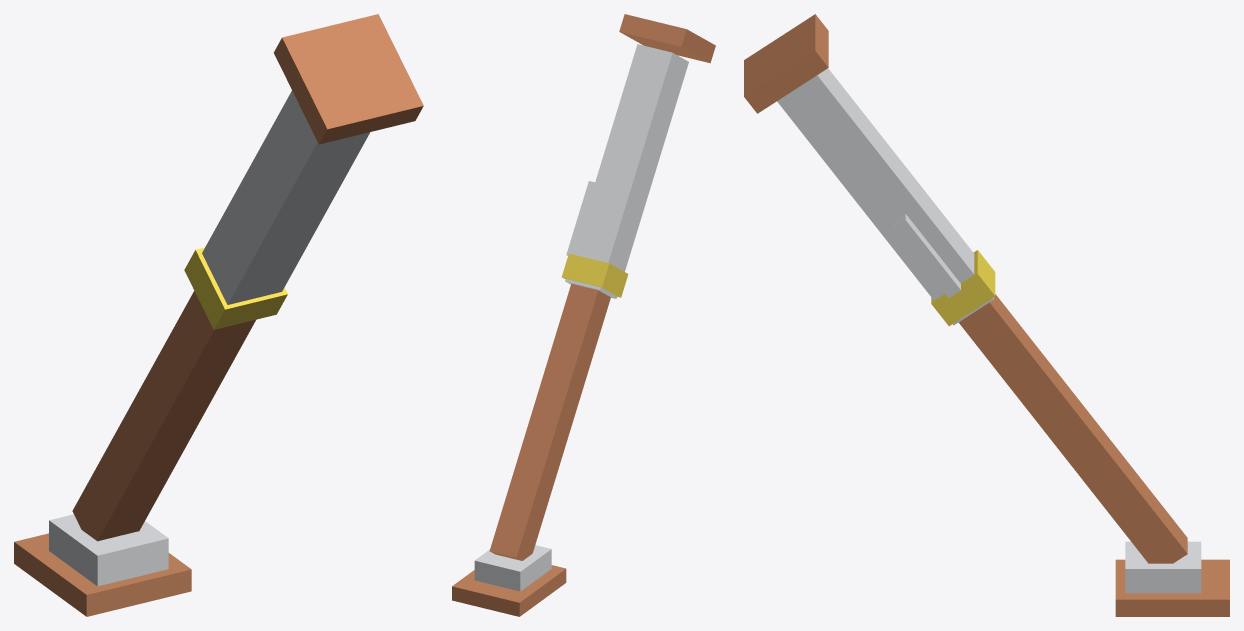
File: shipyard-and-dry-dock-shipyard-and-dry-dock-shoring-pr-1d59855a__37930.glb
3 renders of one model, left to right at view 1: azimuth 30°, elevation 25°; view 2: azimuth 150°, elevation 25°; view 3: azimuth 270°, elevation 25°, orthographic. The views are drawn at different scales.
Parts seen in each view (by area): view 1: shipyard-and-dry-dock-shoring-prop; view 2: shipyard-and-dry-dock-shoring-prop; view 3: shipyard-and-dry-dock-shoring-prop.
Part boxes in pixels (x1,y1,x2,y2): shipyard-and-dry-dock-shoring-prop: (14,14,423,616); shipyard-and-dry-dock-shoring-prop: (452,14,715,616); shipyard-and-dry-dock-shoring-prop: (744,14,1229,616).
Bounding box in the file's own units: 0.5002 × 3.27 × 2.55.
